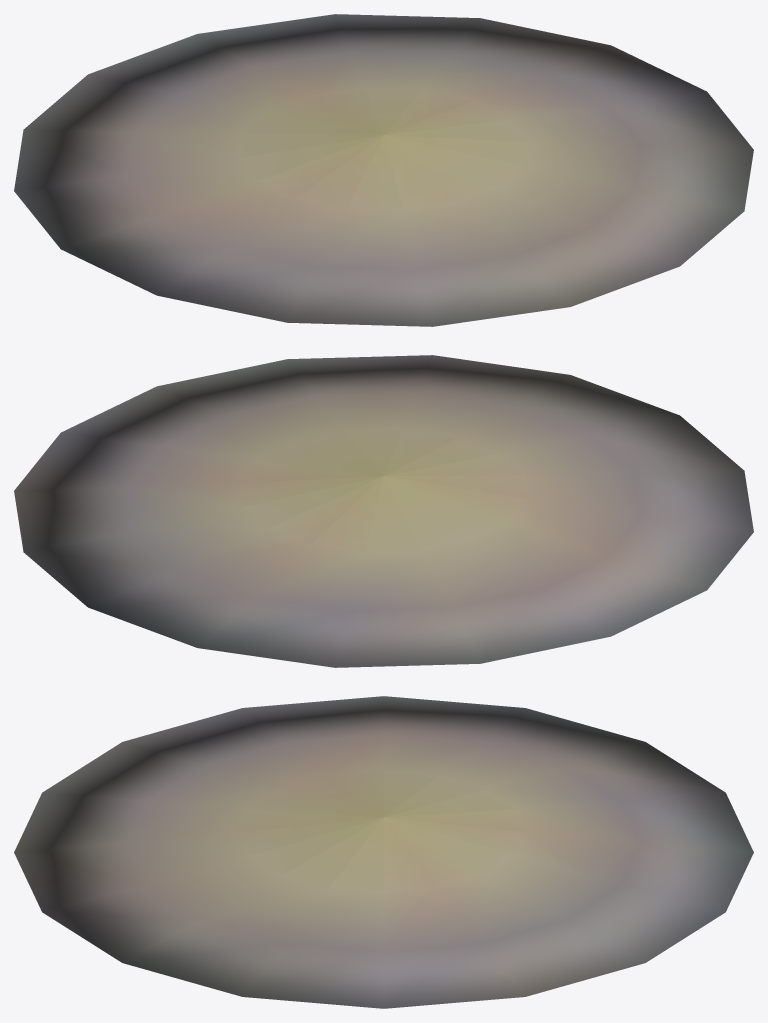
File: space-galaxies-galaxy_v16.glb
3 renders of one model, top to bottom at view 1: azimuth 30°, elevation 25°; view 2: azimuth 150°, elevation 25°; view 3: azimuth 270°, elevation 25°, orthographic.
Parts seen in each view (by area): view 1: Galaxy_v16; view 2: Galaxy_v16; view 3: Galaxy_v16.
Part boxes in pixels (left/top/right/bottom): Galaxy_v16: left=14, top=14, right=753, bottom=326; Galaxy_v16: left=14, top=355, right=753, bottom=667; Galaxy_v16: left=14, top=696, right=753, bottom=1008.
Bounding box in the file's own units: 0.5 × 0.0436 × 0.5.
